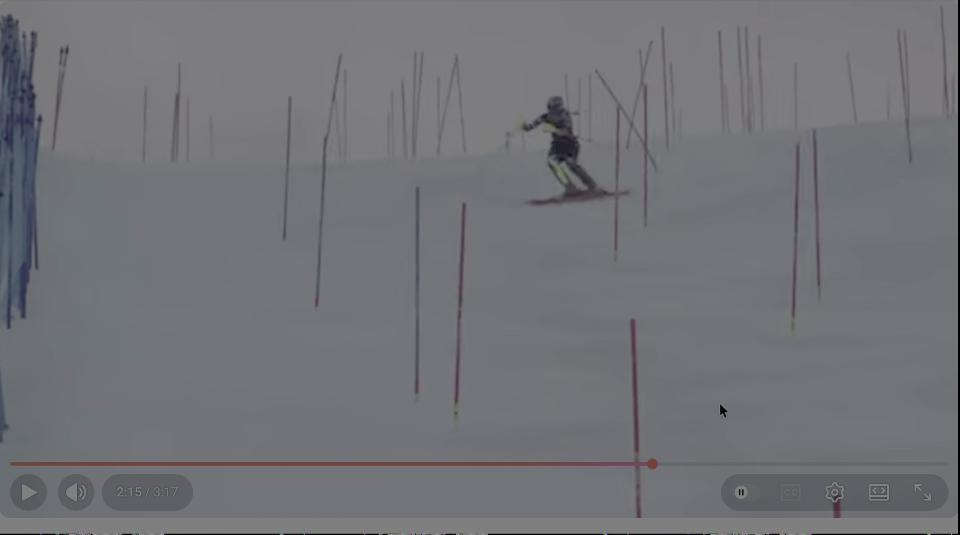gate: (385, 150, 440, 406), (440, 192, 495, 425), (608, 299, 668, 512), (311, 133, 345, 323), (798, 121, 832, 296), (780, 146, 807, 337), (273, 90, 301, 243)
